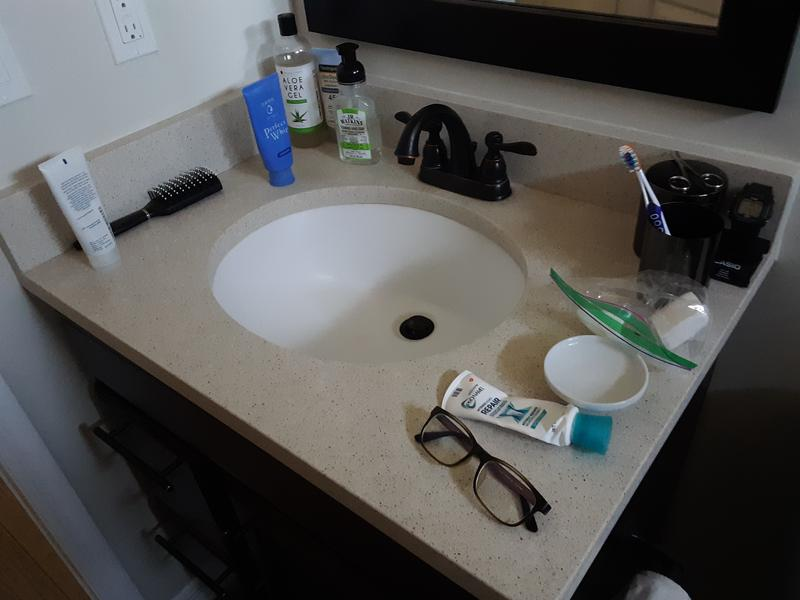glasses: (411, 404, 553, 536)
